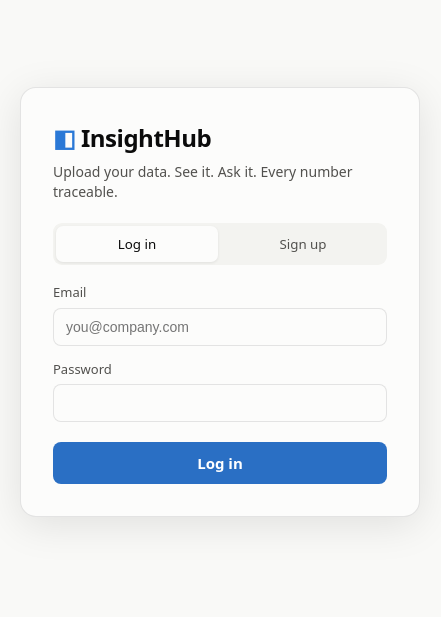
Login › does not authenticate when signup fails
Click the button "Sign up".
click(303, 244)  # box [222,226,384,262]
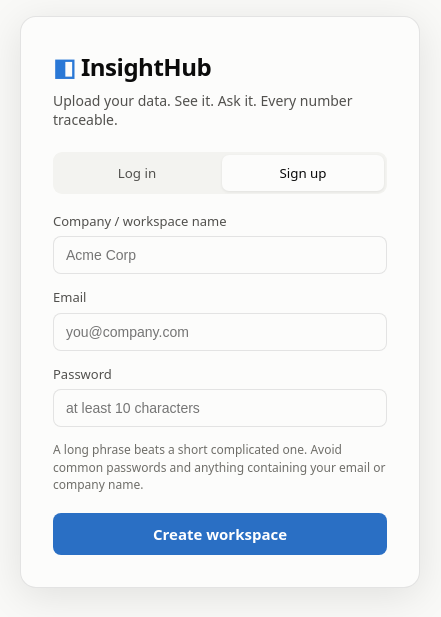
Type "taken@b.com" into the field labelled "Email".
click(220, 332); type("taken@b.com")  # box [53,313,387,351]
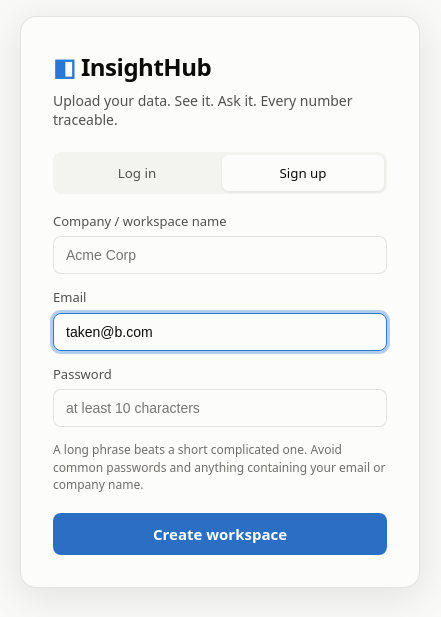
Type "correct-horse-battery" into the password field labelled "Password".
click(220, 408); type("correct-horse-battery")  # box [53,389,387,427]
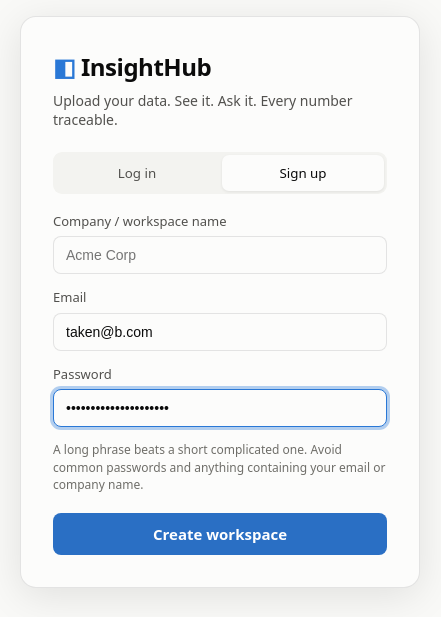
Click the button "Create workspace".
click(220, 534)  # box [53,513,387,555]
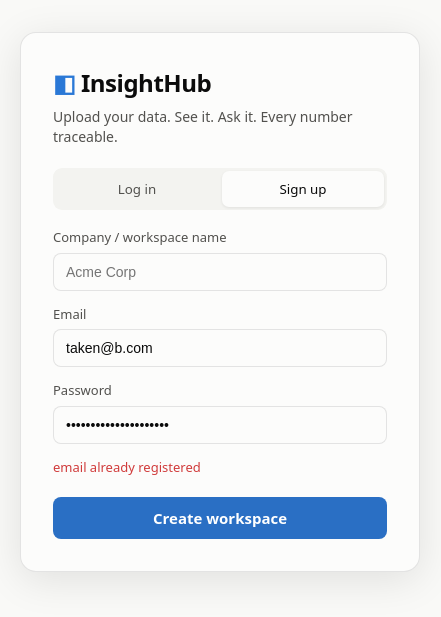
Expected: the text "email already registered" is shown, [53,458,201,476]
